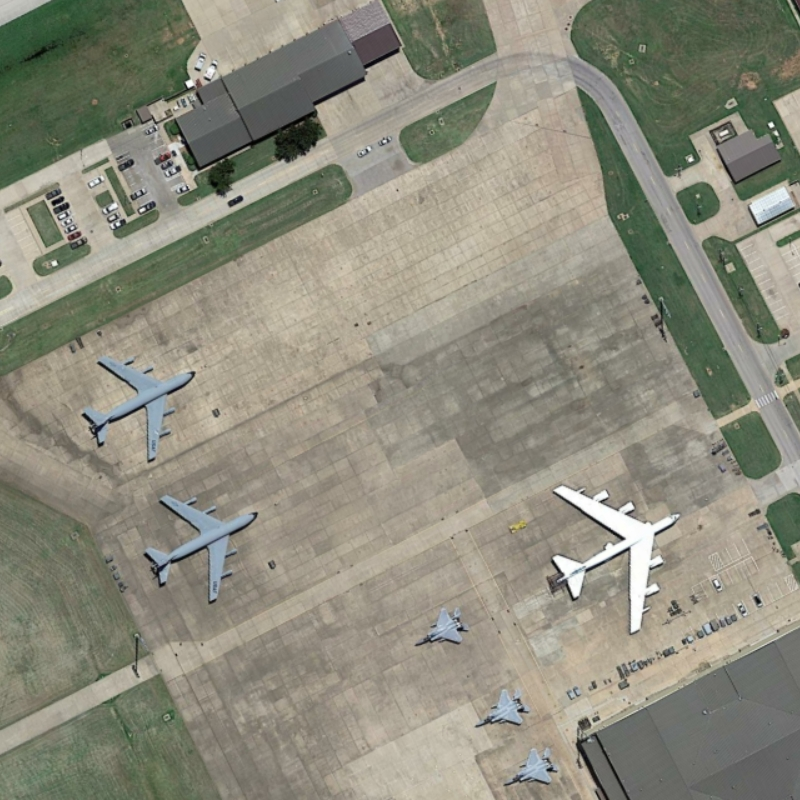A13: (413, 603, 473, 649), (473, 686, 534, 729), (502, 745, 562, 788)
A14: (134, 488, 267, 612), (74, 347, 201, 466)
A8: (543, 478, 688, 640)
